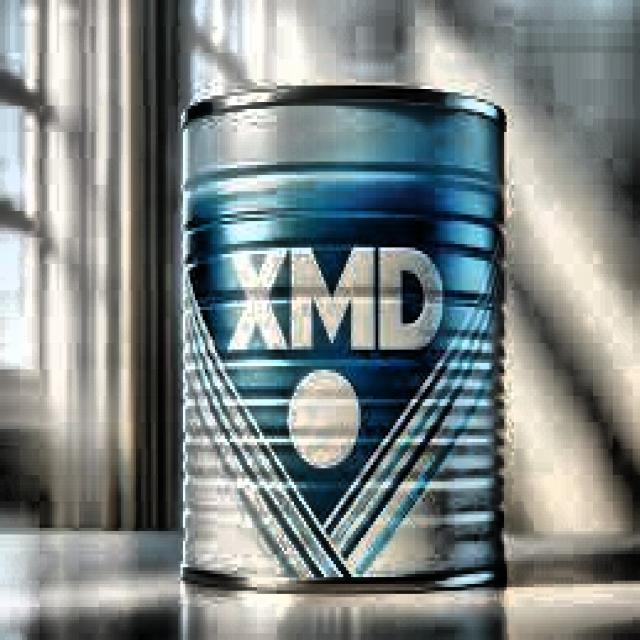can: (174, 73, 516, 602)
